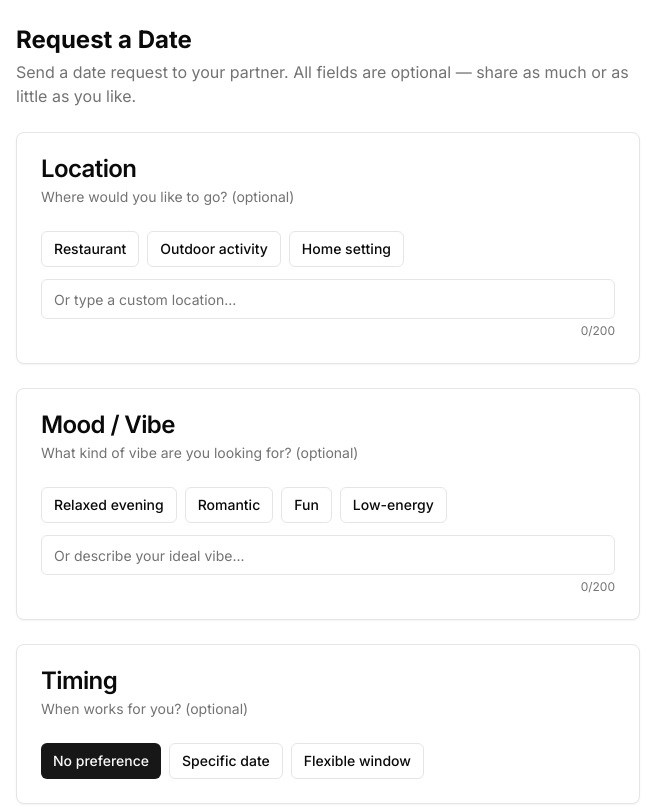
Scenario: DateRequestPage › shows window date pickers when "Flexible window" is selected
What coordinates should you click on to do the following:
click the button with test id "timing-window"
I would click on:
 (357, 761)
Its box is [291, 743, 424, 779].
(page scrolled)
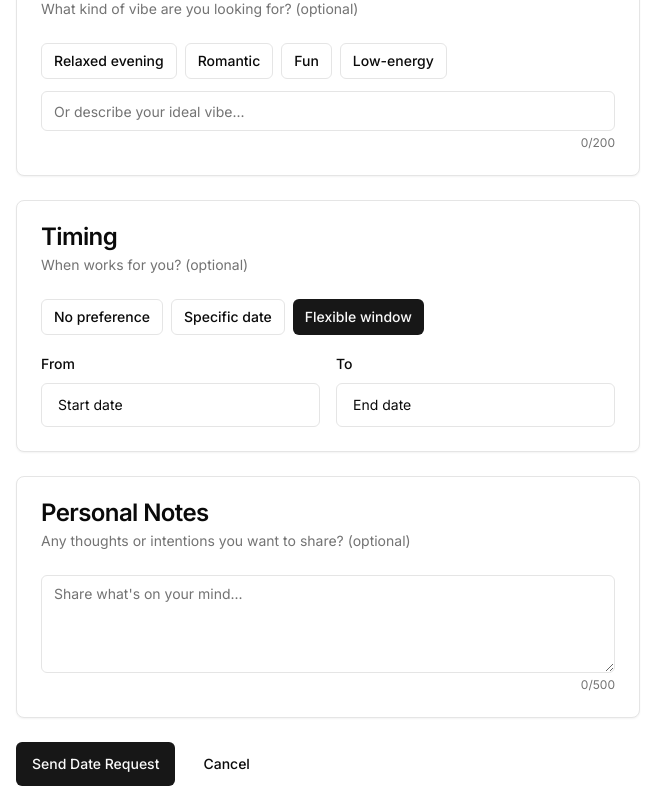
Expected: the button with test id "window-start-trigger" is shown, [41, 383, 320, 427]
Expected: the button with test id "window-end-trigger" is shown, [336, 383, 615, 427]
